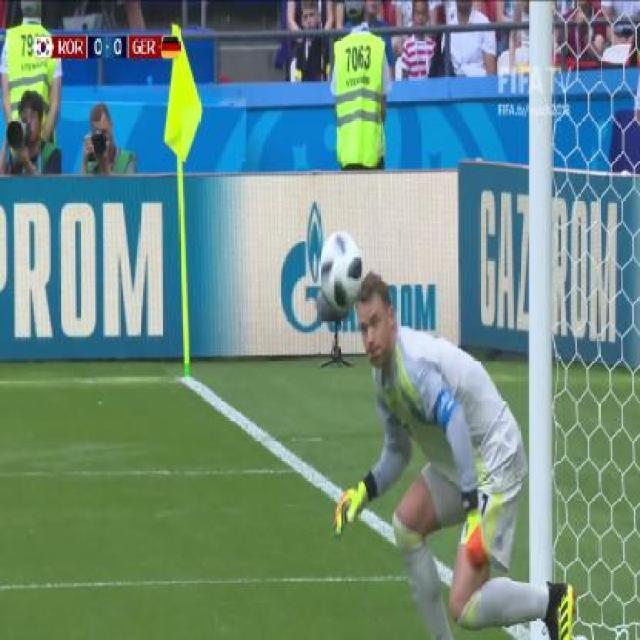ball: (315, 222, 368, 318)
player: (319, 269, 576, 640)
